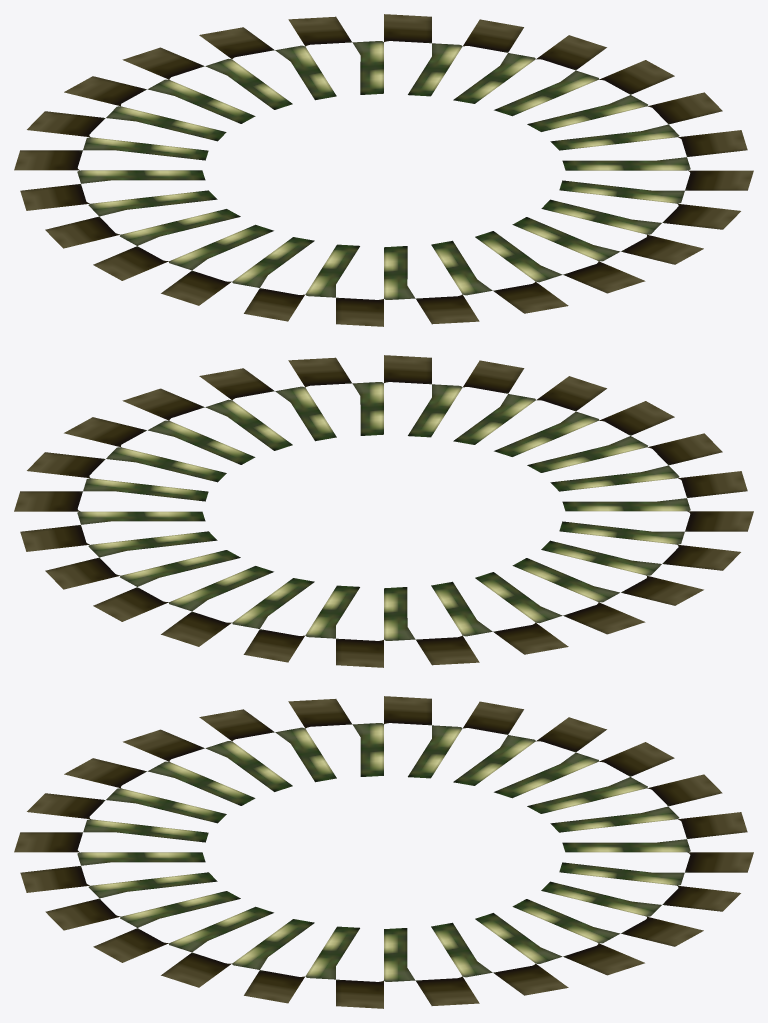
3 renders of one model, top to bottom at view 1: azimuth 30°, elevation 25°; view 2: azimuth 150°, elevation 25°; view 3: azimuth 270°, elevation 25°, orthographic.
Parts seen in each view (by area): view 1: T1L2M003_24; view 2: T1L2M003_24; view 3: T1L2M003_24.
Boxes of the visible parts, <box> form: T1L2M003_24: <box>14,14,753,326</box>; T1L2M003_24: <box>14,355,753,667</box>; T1L2M003_24: <box>14,696,753,1008</box>.
Bounding box in the file's own units: 3.43 × 0 × 3.43.
